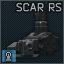FN SCAR rear flip-up sight: (0, 0, 64, 64)
